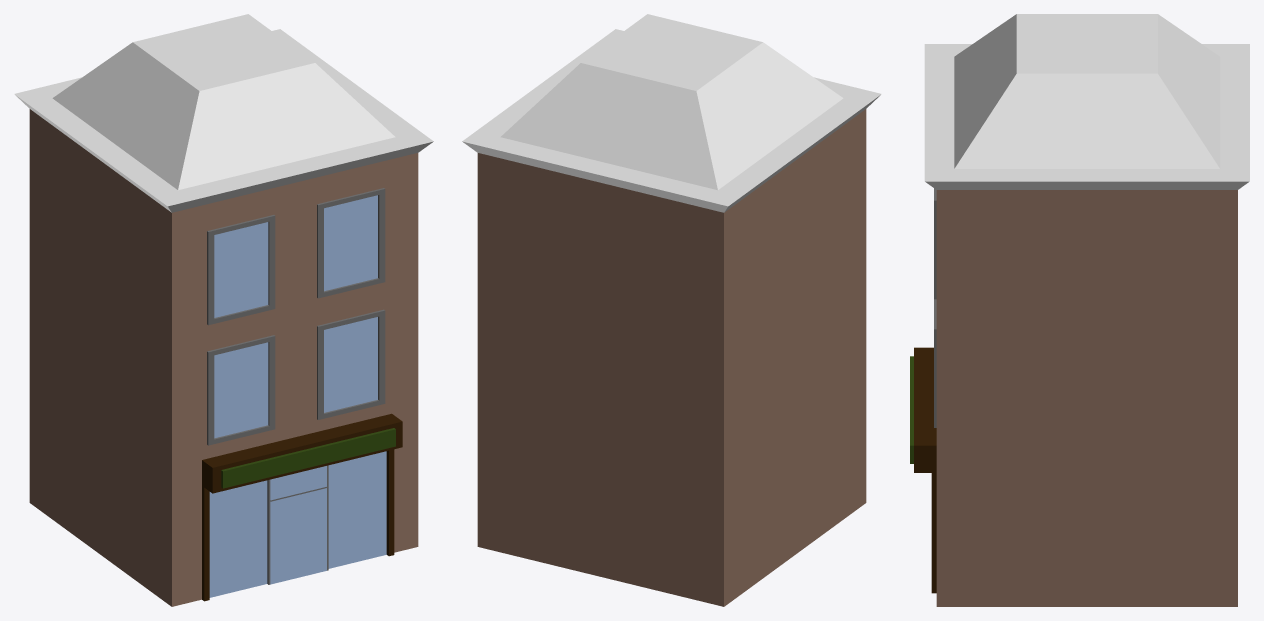
Rendered from House3Lvl2.fbx.
The picture shows the model from 3 angles, left to right: view 1: azimuth 30°, elevation 25°; view 2: azimuth 150°, elevation 25°; view 3: azimuth 270°, elevation 25°; orthographic projection. The views are drawn at different scales.
Visible parts, largest first — view 1: House3Lvl2; view 2: House3Lvl2; view 3: House3Lvl2.
Boxes of the visible parts, left/top/right/bottom form: House3Lvl2: left=14, top=14, right=433, bottom=606; House3Lvl2: left=462, top=14, right=881, bottom=606; House3Lvl2: left=910, top=14, right=1249, bottom=606.
Bounding box in the file's own units: 89.13 × 151 × 93.14.
